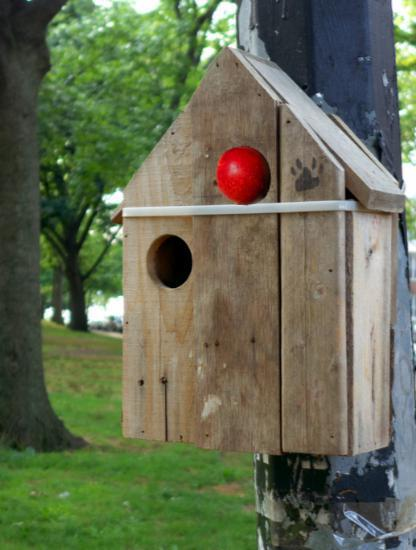Nectarine: (214, 146, 274, 206)
